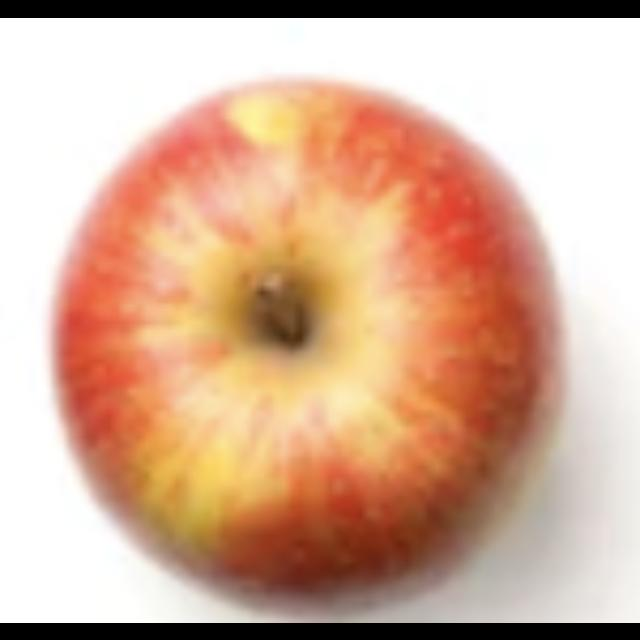Apel Segar: (52, 69, 564, 606)
